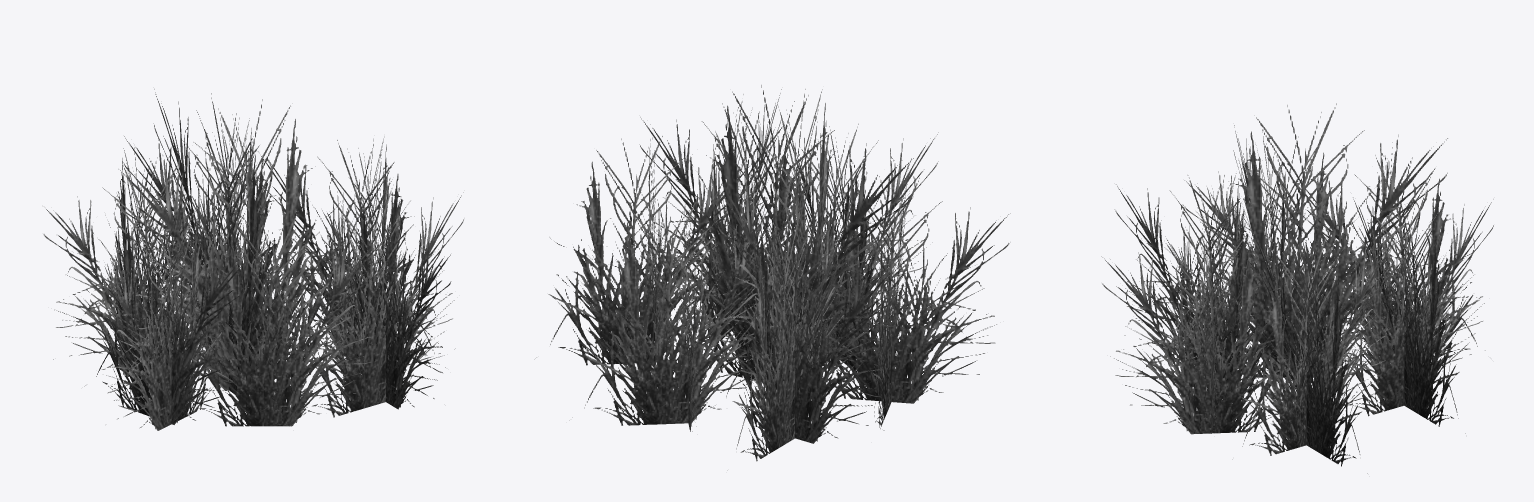
Rendered from grass winter2.FBX.
3 renders of one model, left to right at view 1: azimuth 30°, elevation 25°; view 2: azimuth 150°, elevation 25°; view 3: azimuth 270°, elevation 25°, orthographic. The views are drawn at different scales.
Parts seen in each view (by area): view 1: grass winter2; view 2: grass winter2; view 3: grass winter2.
Boxes of the visible parts, x1,y1,x2,y2 form: grass winter2: [43, 89, 464, 430]; grass winter2: [534, 85, 1010, 470]; grass winter2: [1101, 103, 1493, 473].
Size of the model in its own units: 12.88 by 9.13 by 12.4.
